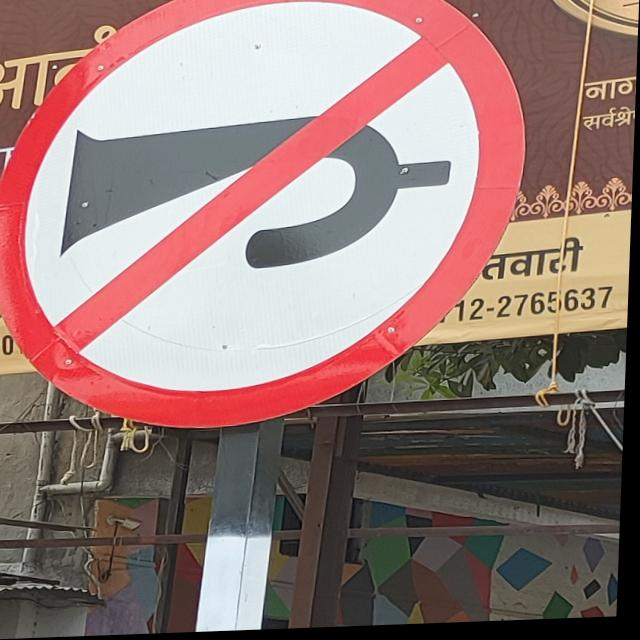HORN_PROHIBITED: (0, 0, 527, 433)
